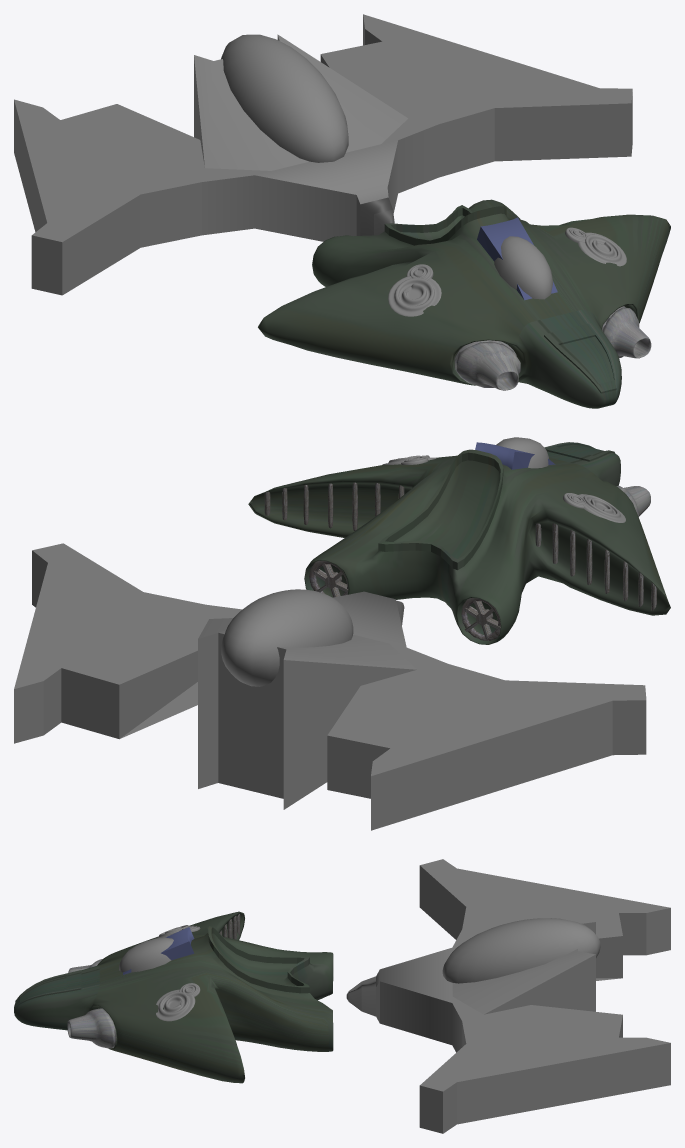
The model's file is team2_bomber.obj.
3 views of the same model, one above another, from view 1: azimuth 30°, elevation 25°; view 2: azimuth 150°, elevation 25°; view 3: azimuth 270°, elevation 25° (orthographic). The views are drawn at different scales.
Parts seen in each view (by area): view 1: pCube1, pCube2, pSphere1, pCylinder3, pSphere2, pasted__pCylinder3 group9, pasted__pCylinder4 group12, pCylinder4; view 2: pCube1, pCube2, pSphere1, pasted__polySurface10 group7, polySurface10, pasted__polySurface11 group8, polySurface11, pSphere2, pasted__pCylinder4 group12; view 3: pCube1, pCube2, pSphere1, pasted__pCylinder3 group9, pSphere2, pCylinder4.
Part boxes in pixels (left/top/right/bottom): pCube1: left=14, top=14, right=632, bottom=295; pCube2: left=258, top=199, right=670, bottom=408; pSphere1: left=221, top=34, right=348, bottom=162; pCylinder3: left=454, top=340, right=520, bottom=390; pSphere2: left=494, top=236, right=552, bottom=299; pasted__pCylinder3 group9: left=602, top=306, right=651, bottom=358; pasted__pCylinder4 group12: left=388, top=275, right=441, bottom=316; pCylinder4: left=578, top=232, right=626, bottom=266; pCube1: left=14, top=543, right=646, bottom=830; pCube2: left=248, top=442, right=670, bottom=644; pSphere1: left=221, top=589, right=353, bottom=686; pasted__polySurface10 group7: left=535, top=523, right=656, bottom=610; polySurface10: left=264, top=482, right=404, bottom=530; pasted__polySurface11 group8: left=461, top=598, right=500, bottom=640; polySurface11: left=309, top=560, right=348, bottom=597; pSphere2: left=496, top=437, right=548, bottom=468; pasted__pCylinder4 group12: left=578, top=494, right=625, bottom=522; pCube1: left=346, top=859, right=670, bottom=1133; pCube2: left=14, top=911, right=333, bottom=1083; pSphere1: left=442, top=918, right=600, bottom=983; pasted__pCylinder3 group9: left=67, top=1008, right=116, bottom=1048; pSphere2: left=119, top=937, right=173, bottom=972; pCylinder4: left=156, top=989, right=195, bottom=1021.
Size of the model in its own units: 48.92 by 13.14 by 58.41.
